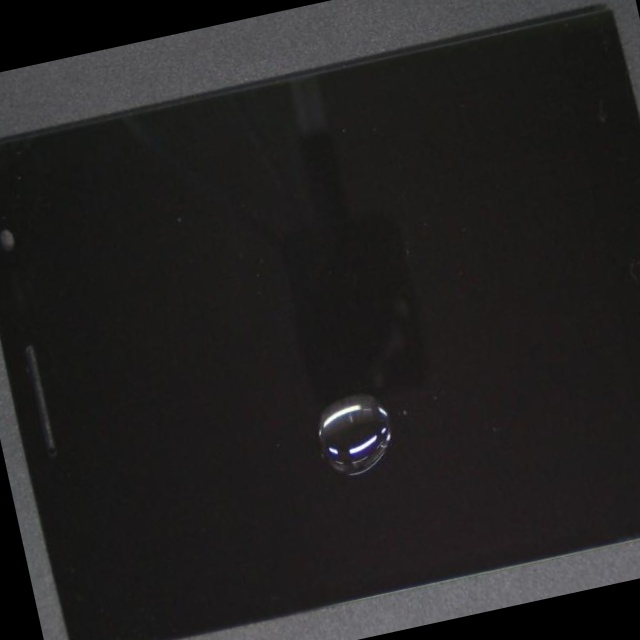oil: (172, 196, 624, 640)
